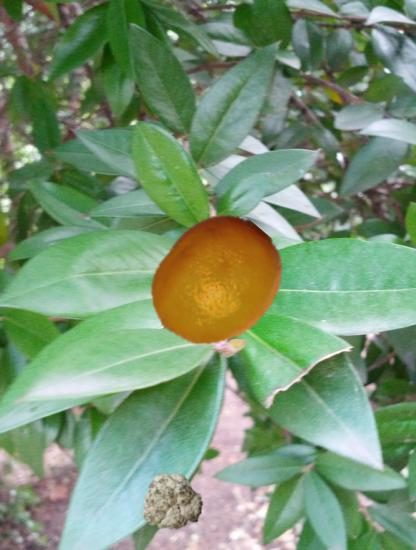Cauliflower: (140, 469, 204, 533)
Lemon: (146, 213, 286, 353)
